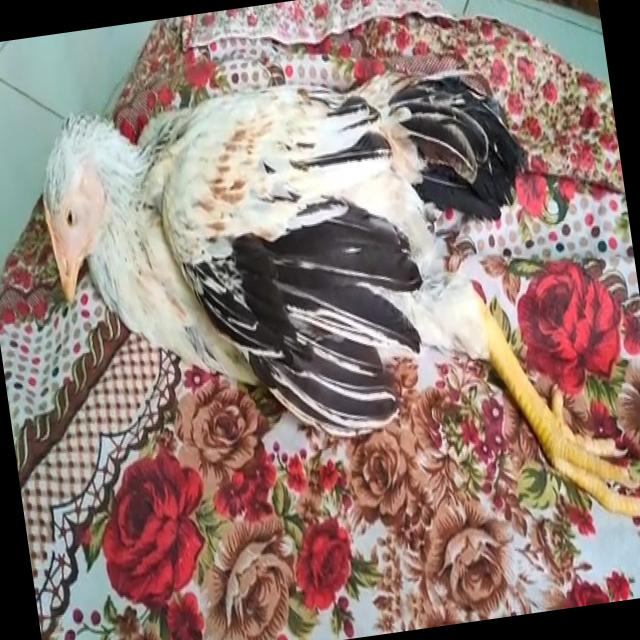leg stretching: (28, 29, 622, 620)
